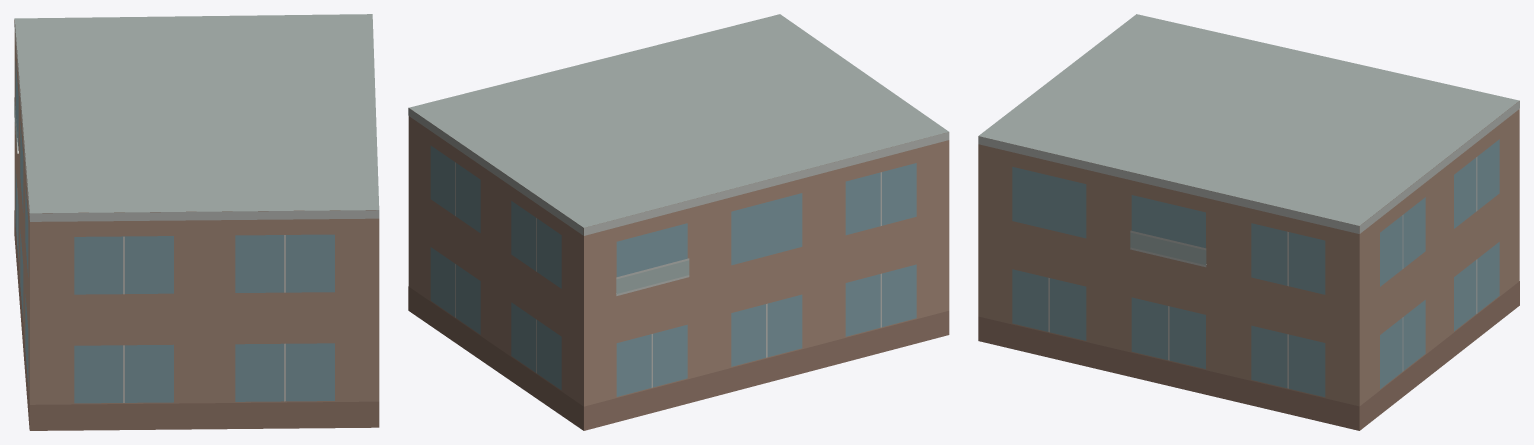
Rendered from survey-upis-32524462.glb.
The picture shows the model from 3 angles, left to right: view 1: azimuth 30°, elevation 25°; view 2: azimuth 150°, elevation 25°; view 3: azimuth 270°, elevation 25°; orthographic projection. The views are drawn at different scales.
Parts seen in each view (by area): view 1: survey-upis-32524462.tmp; view 2: survey-upis-32524462.tmp; view 3: survey-upis-32524462.tmp.
Part boxes in pixels (box(x1,y1,x2,y2)): survey-upis-32524462.tmp: box(14, 14, 379, 430); survey-upis-32524462.tmp: box(408, 14, 949, 430); survey-upis-32524462.tmp: box(978, 14, 1519, 430).
Size of the model in its own units: 13.54 by 6.1 by 14.62.
